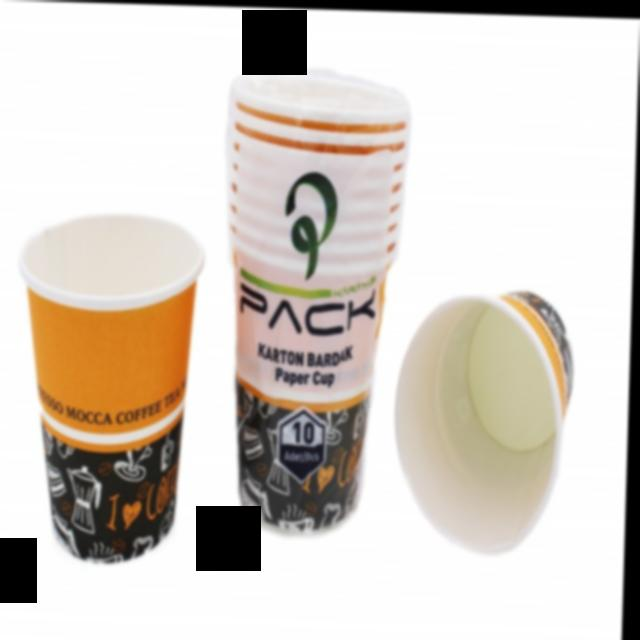karton-bardak: (211, 65, 407, 567), (11, 206, 204, 568), (400, 283, 583, 593)
